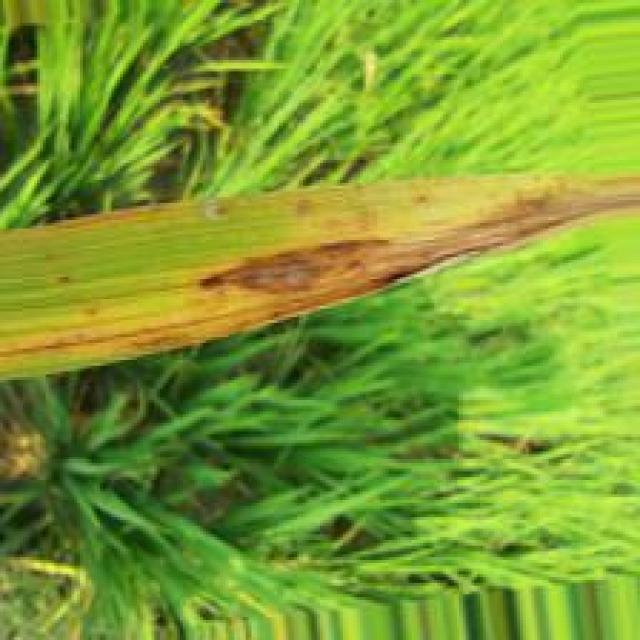Rice Tungro: (0, 175, 640, 365)
